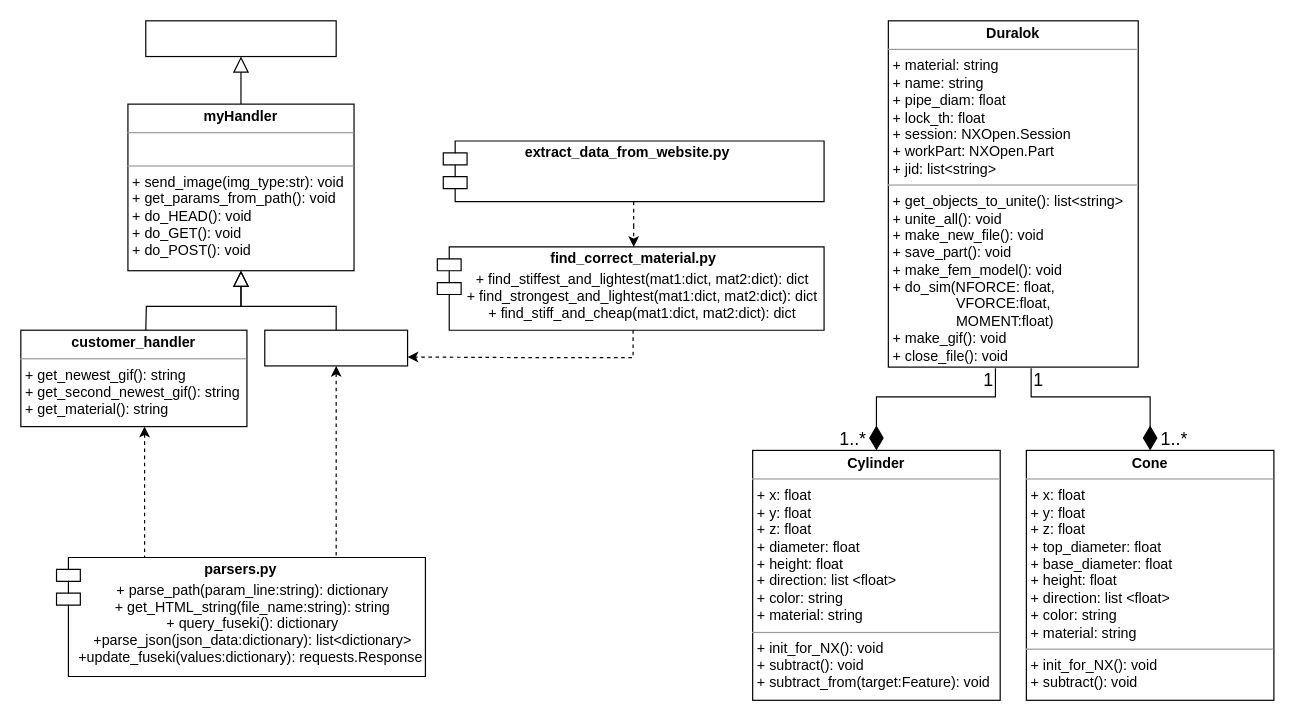
This 1295x721 diagram has some shape labels left out. Here are the shapes that lost their labels. From the top down, the box of each, then its label:
(145, 20, 336, 57): BaseHTTPRequestHandler
(442, 140, 824, 202): + web_table_to_dictionary(): dictionary + find_dollar_cost_per_kg(): float
(264, 329, 408, 366): NASTRAN_handler
